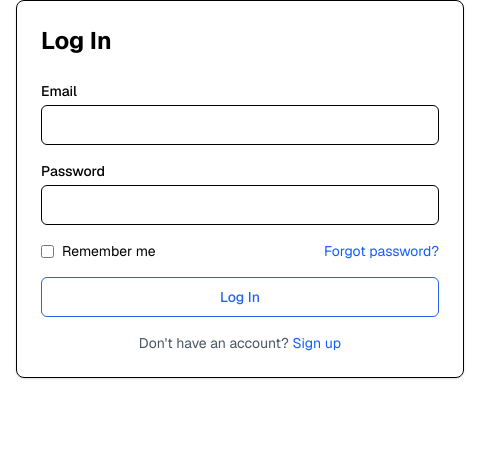
Test case: LoginForm › Form Validation › shows error when password is missing
The width and height of the screenshot is (481, 458).
Type "test@example.com" into the field labelled "Email".
click(240, 125); type("test@example.com")  # box [41, 105, 439, 145]
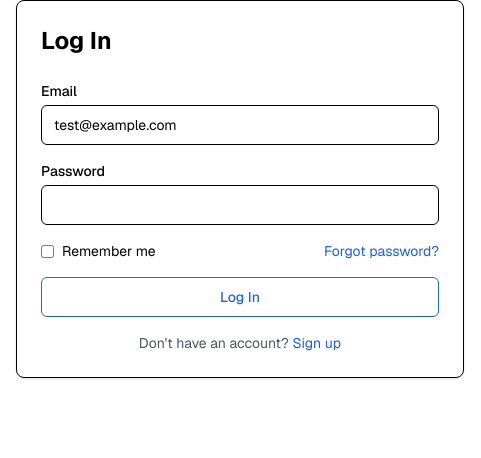
Click the button "Log In".
click(240, 297)  # box [41, 277, 439, 317]
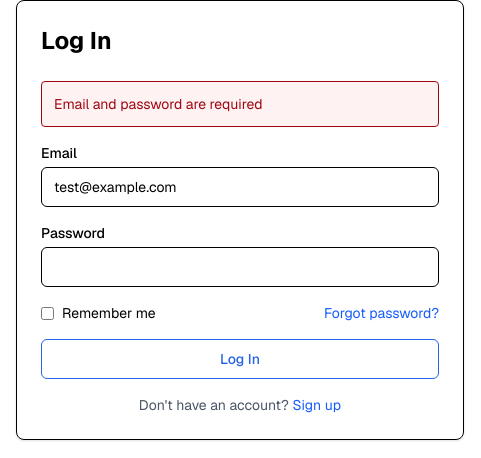
Expected: the text "Email and password are required" is shown, [41, 81, 439, 127]
